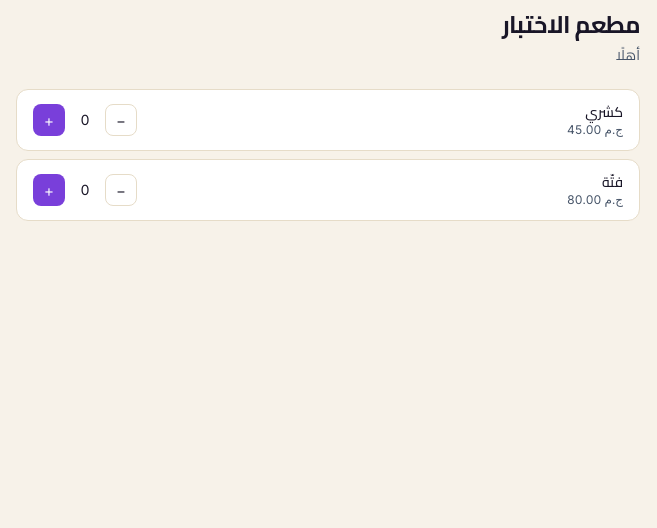
Test case: placing an order › demands a name and a phone before sending anything
Click the button named "إضافة كشري": [49, 120] box [33,104,65,136]
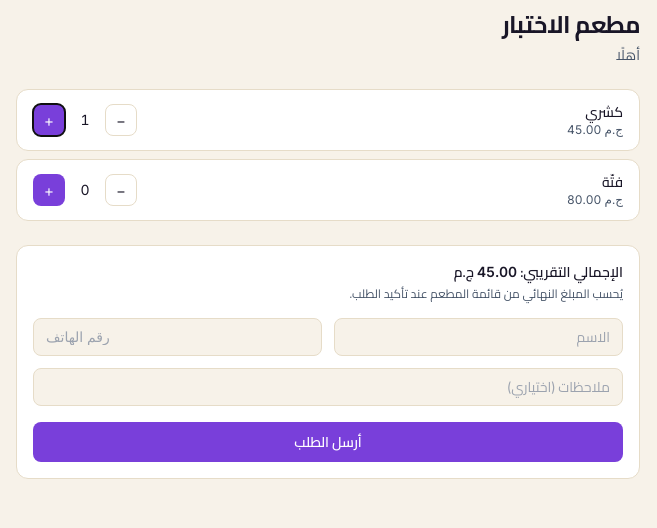
Click the button with test id "place-order": [328, 442] box [33,422,623,462]
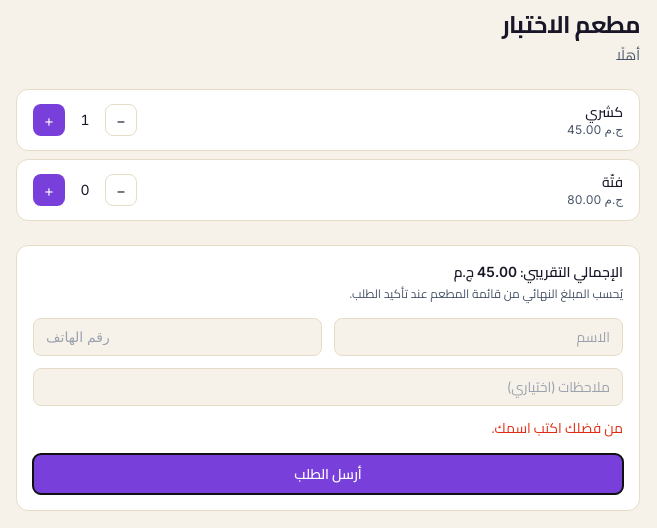
Expected: the text "من فضلك اكتب اسمك." is shown, [492,415,623,441]
